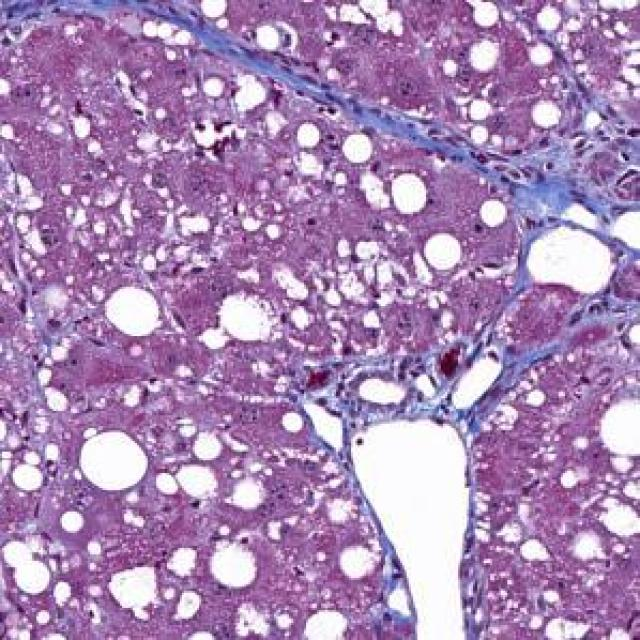fibrosis: (358, 111, 614, 190)
